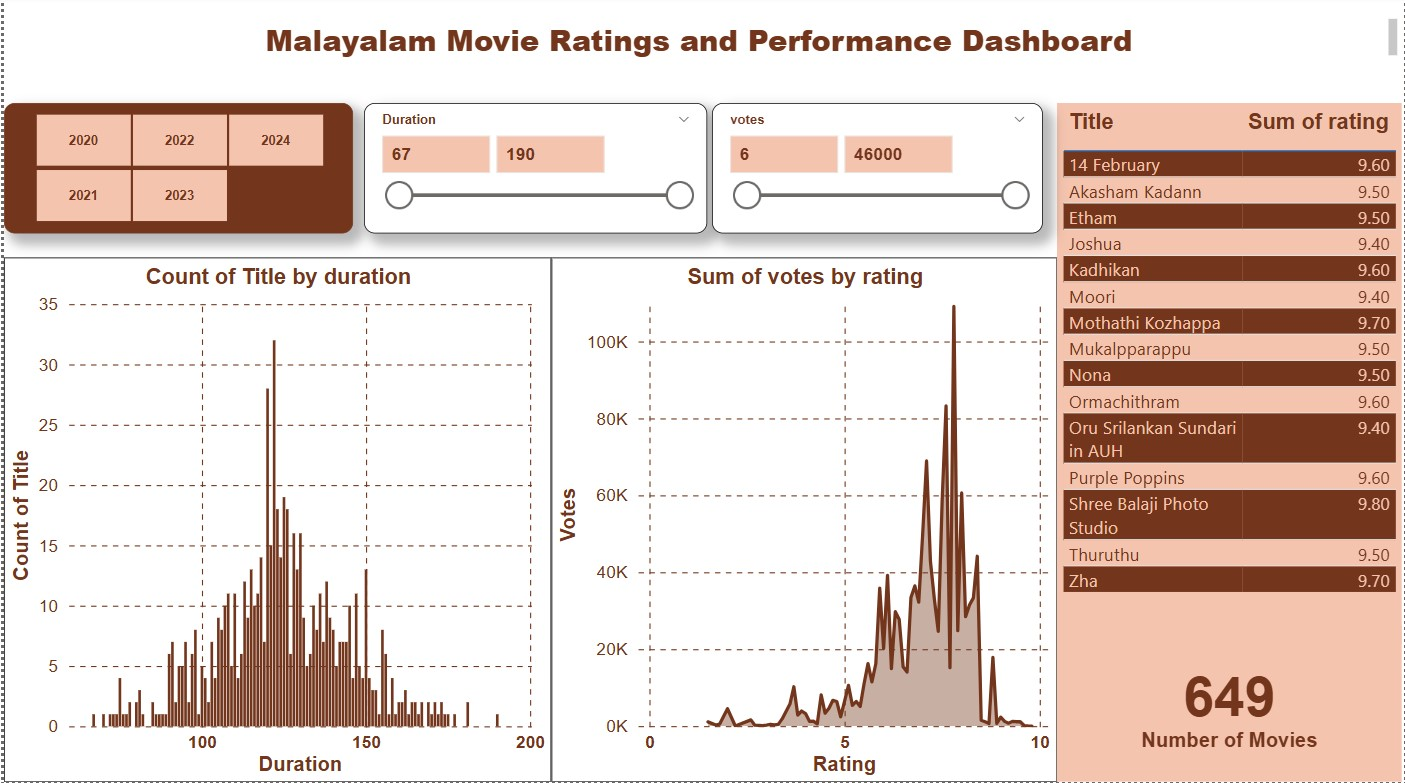

The dashboard page shown, as its layout file describes it:
{"tool":"powerbi","page":{"name":"Dashboard","canvas":[1280,720],"ordinal":0},"visuals":[{"type":"slicer","fields":{"Values":["imdb movies.year"]},"box":[0,77.5,483.8,60.5],"z":0},{"type":"slicer","fields":{"Values":["imdb movies.duration"]},"box":[963.8,446,315.6,119.1],"z":1000},{"type":"columnChart","fields":{"Category":["imdb movies.duration"],"Y":["CountNonNull(imdb movies.title)"]},"box":[7.6,147.4,476.2,391.2],"z":2000},{"type":"card","fields":{"Values":["Sum(imdb movies.votes)"]},"box":[691.7,319.4,245.7,109.6],"z":3000},{"type":"stackedAreaChart","fields":{"Category":["imdb movies.rating"],"Y":["Sum(imdb movies.votes)"]},"box":[487.6,147.4,476.2,391.2],"z":4000},{"type":"textbox","box":[0,11.3,1279.4,45.4],"z":5000},{"type":"tableEx","title":"Top 5 Movies based on Normalised Weighted Rank","fields":{"Values":["imdb movies.title","imdb movies.IMBD Rating"]},"box":[963.8,77.5,315.6,221.1],"z":6000},{"type":"slicer","fields":{"Values":["imdb movies.votes"]},"box":[963.8,315.6,315.6,119.1],"z":7000},{"type":"card","fields":{"Values":["imdb movies.Total Count"]},"box":[487.6,77.5,468.7,69.9],"z":8000},{"type":"tableEx","title":"Top 3 movies based on IMDB Rating","fields":{"Values":["imdb movies.Title","imdb movies.IMBD Rating","imdb movies.IMBD Vote Count"]},"box":[7.6,538.6,476.2,170.1],"z":9000},{"type":"tableEx","title":"Top 3 movies based on IMDB Vote Count","fields":{"Values":["imdb movies.Title","imdb movies.IMBD Rating","imdb movies.IMBD Vote Count"]},"box":[487.6,538.6,476.2,170.1],"z":10000},{"type":"slicer","fields":{"Values":["Parameter.Parameter"]},"box":[963.8,583.9,315.6,124.7],"z":11000}]}

Visuals, with their boxes in screenshot pixels (x1, y1, x2, y2), scaled from the page's 1280x720 canvas onto the 1405x783 screenshot:
slicer - imdb movies.year: (0, 84, 531, 150)
slicer - imdb movies.duration: (1058, 485, 1404, 615)
columnChart - imdb movies.duration x CountNonNull(imdb movies.title): (8, 160, 531, 586)
card - Sum(imdb movies.votes): (759, 347, 1029, 467)
stackedAreaChart - imdb movies.rating x Sum(imdb movies.votes): (535, 160, 1058, 586)
textbox: (0, 12, 1404, 62)
"Top 5 Movies based on Normalised Weighted Rank" tableEx: (1058, 84, 1404, 325)
slicer - imdb movies.votes: (1058, 343, 1404, 473)
card - imdb movies.Total Count: (535, 84, 1050, 160)
"Top 3 movies based on IMDB Rating" tableEx: (8, 586, 531, 771)
"Top 3 movies based on IMDB Vote Count" tableEx: (535, 586, 1058, 771)
slicer - Parameter.Parameter: (1058, 635, 1404, 771)
